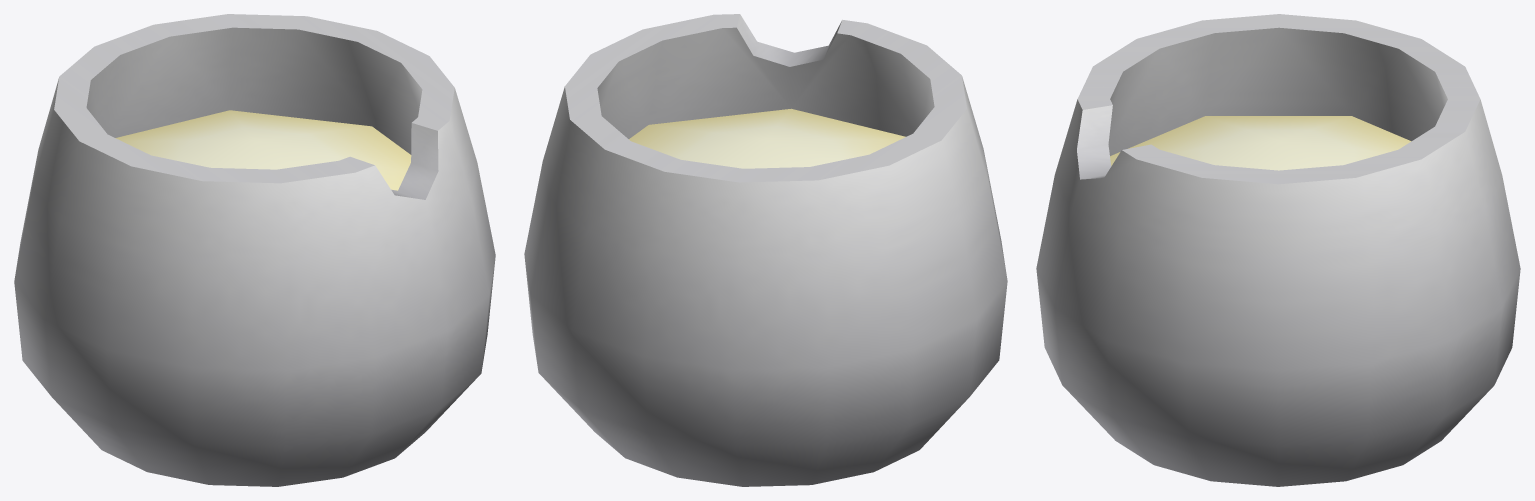
Rendered from m_SugarContainer01_WhiteSugar01.fbx.
3 views of the same model, side by side, from view 1: azimuth 30°, elevation 25°; view 2: azimuth 150°, elevation 25°; view 3: azimuth 270°, elevation 25° (orthographic).
Parts seen in each view (by area): view 1: m_SugarContainer01_WhiteSugar01; view 2: m_SugarContainer01_WhiteSugar01; view 3: m_SugarContainer01_WhiteSugar01.
Part boxes in pixels (x1,y1,x2,y2): m_SugarContainer01_WhiteSugar01: (14, 14, 495, 486); m_SugarContainer01_WhiteSugar01: (524, 14, 1007, 486); m_SugarContainer01_WhiteSugar01: (1036, 14, 1520, 486).
Bounding box in the file's own units: 11.21 × 8 × 11.21.
